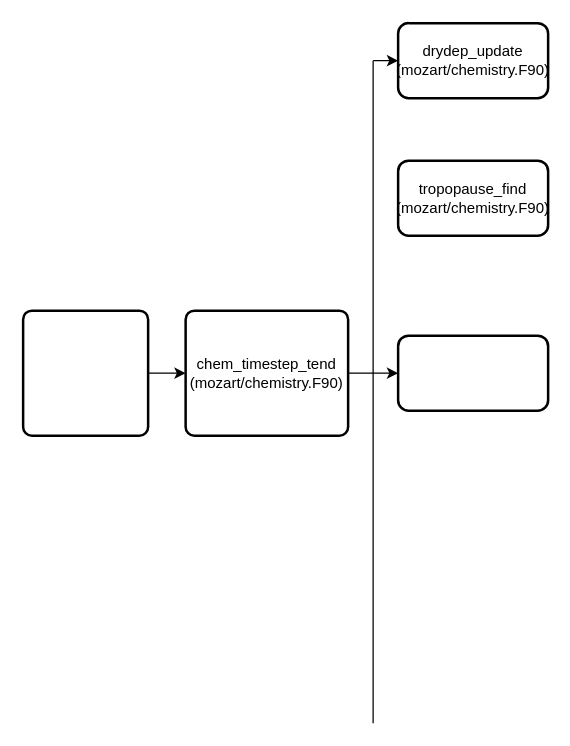
Some shapes in this 570 by 746 pixel diagram are drawn without their labels. The box of each missing label's shape, as (x1, y1, x2, y2) in pixels:
gas_phase_chem_dr (mozart/chemistry.F90): (396, 334, 549, 411)
tphysbc (physpkg.F90): (21, 309, 149, 436)
